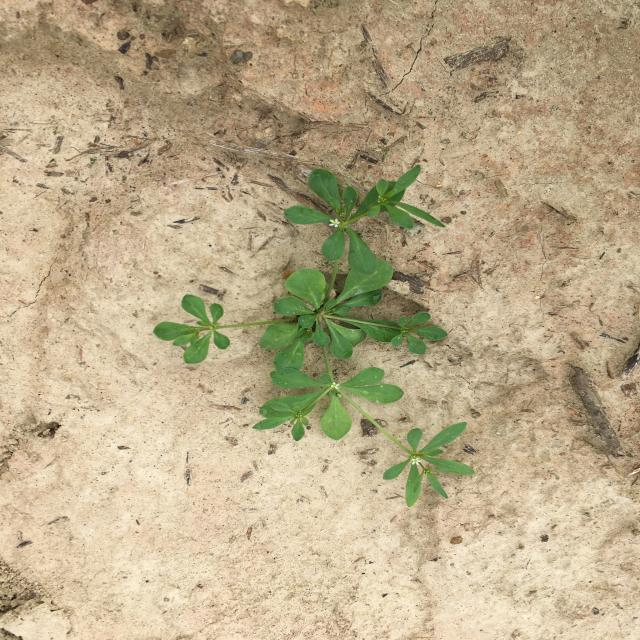Carpetweed: (153, 164, 477, 508)
